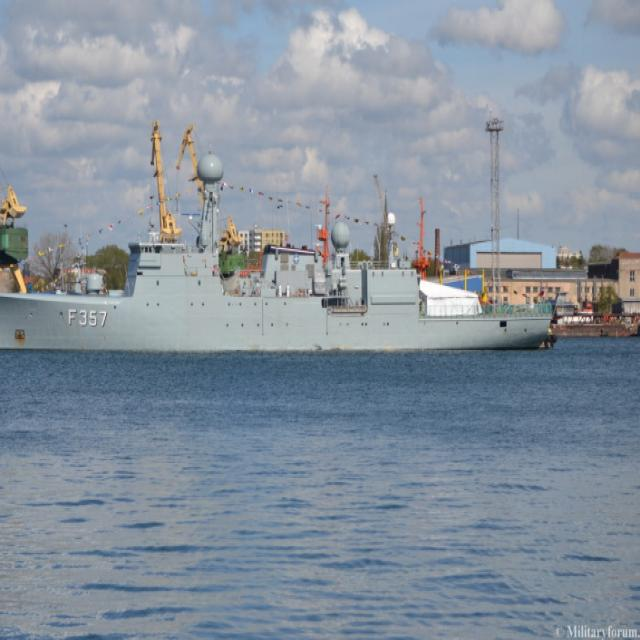Fragata: (1, 146, 559, 363)
